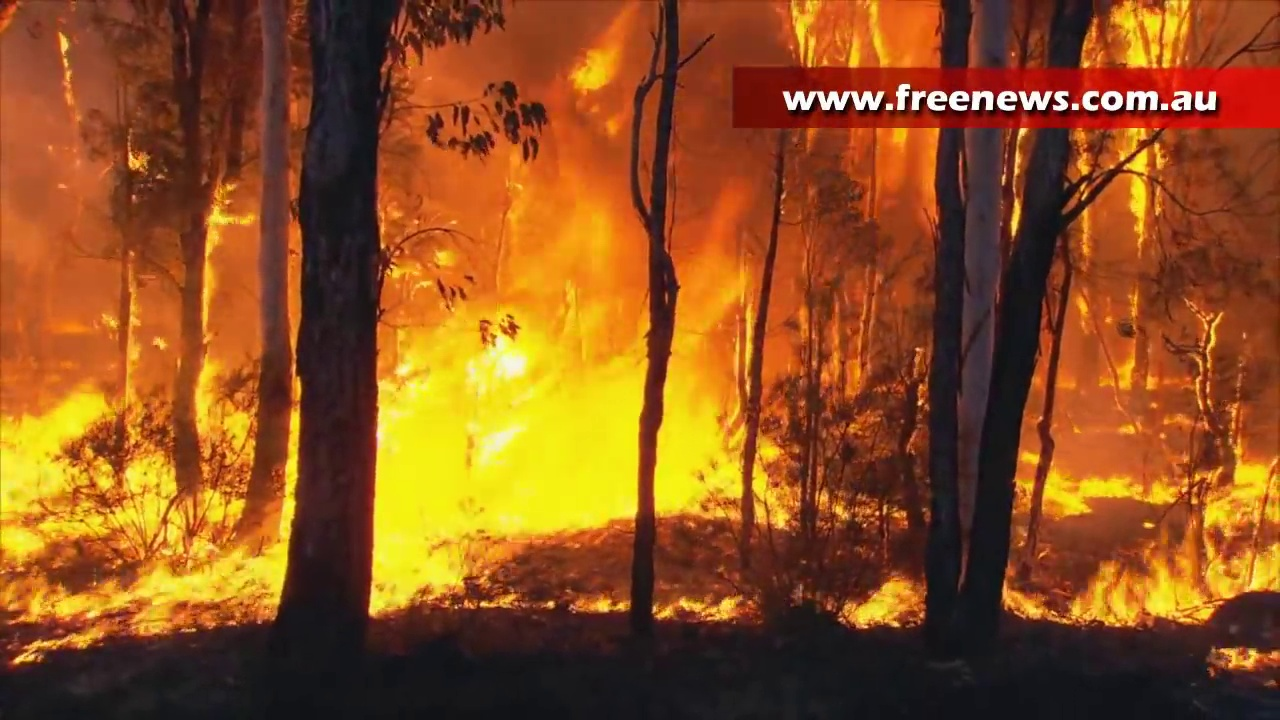fire: (2, 401, 276, 616), (376, 328, 638, 527), (1150, 453, 1280, 594), (795, 2, 886, 68), (1124, 4, 1187, 68), (1083, 560, 1144, 620), (862, 582, 924, 624), (1127, 127, 1147, 225), (572, 47, 612, 88), (1049, 470, 1085, 514), (1221, 644, 1257, 670), (576, 597, 612, 613)
